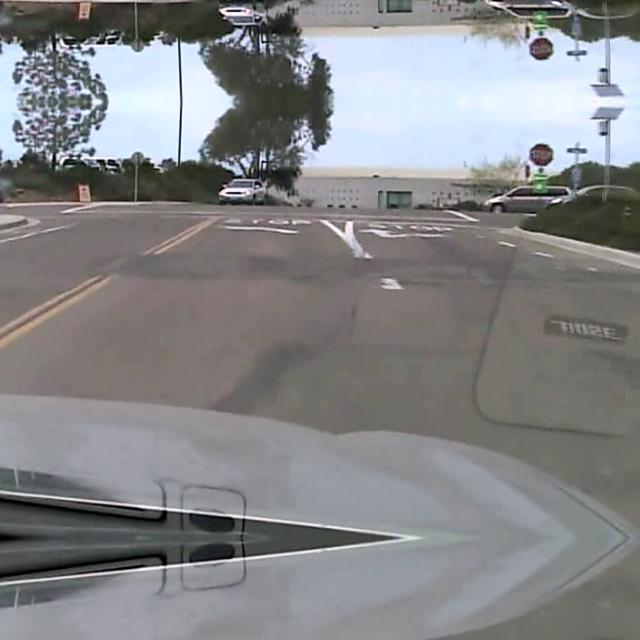stop: (528, 38, 552, 61), (528, 142, 552, 164)
